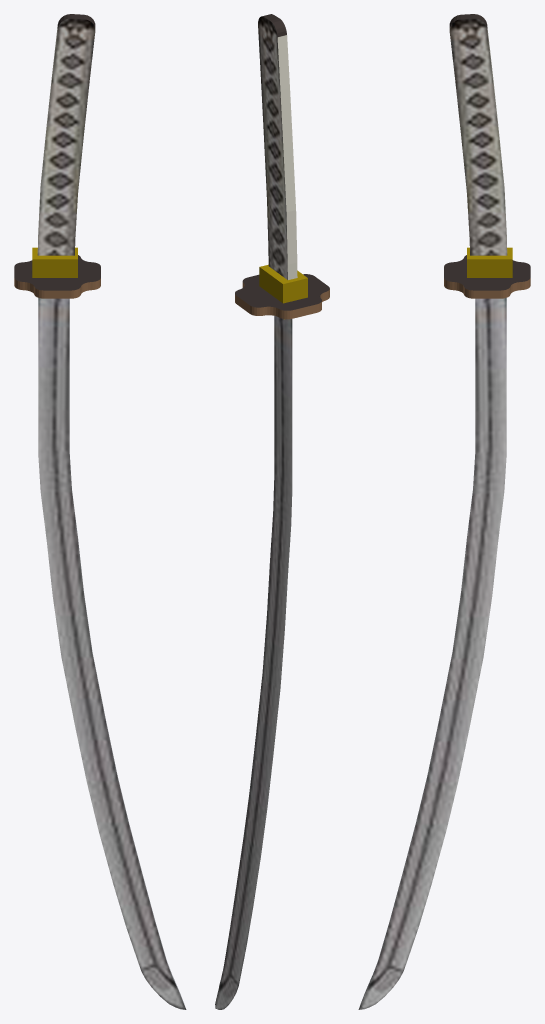
Rendered from YCKatana.fbx.
3 views of the same model, side by side, from view 1: azimuth 90°, elevation 25°; view 2: azimuth 210°, elevation 25°; view 3: azimuth 270°, elevation 25° (orthographic). The views are drawn at different scales.
Parts seen in each view (by area): view 1: Katana; view 2: Katana; view 3: Katana.
Boxes of the visible parts, x1,y1,x2,y2 form: Katana: (14,14,186,1009); Katana: (215,14,329,1009); Katana: (358,14,530,1009).
Bounding box in the file's own units: 0.0549 × 0.6895 × 0.1082.
